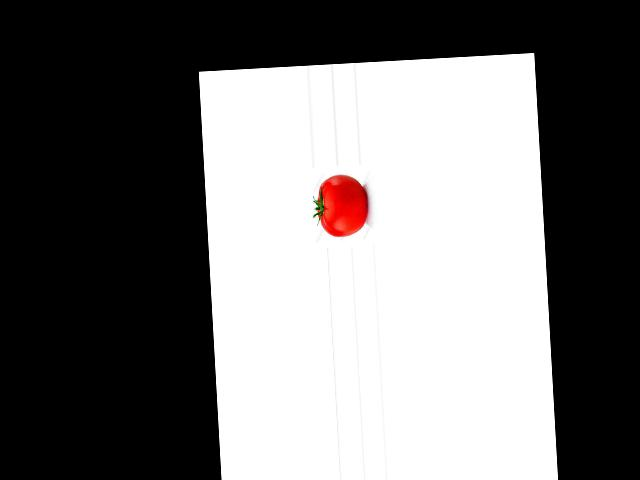tomato: (316, 173, 367, 238)
